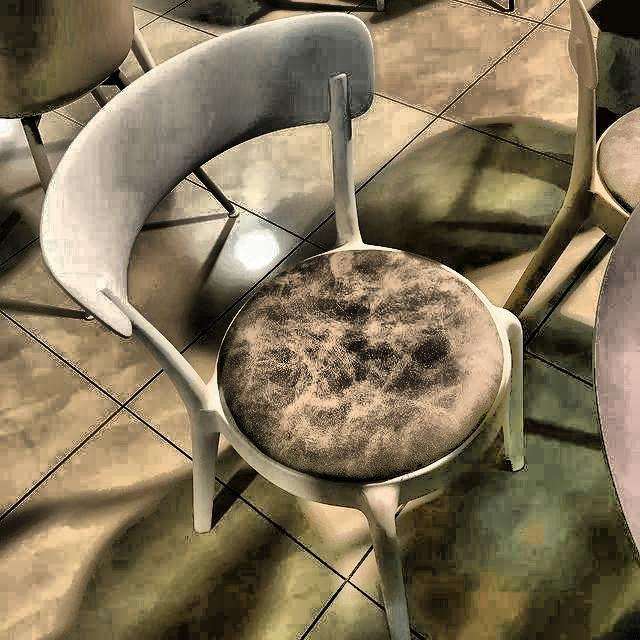cadeira: (33, 7, 530, 640), (38, 11, 524, 484)
